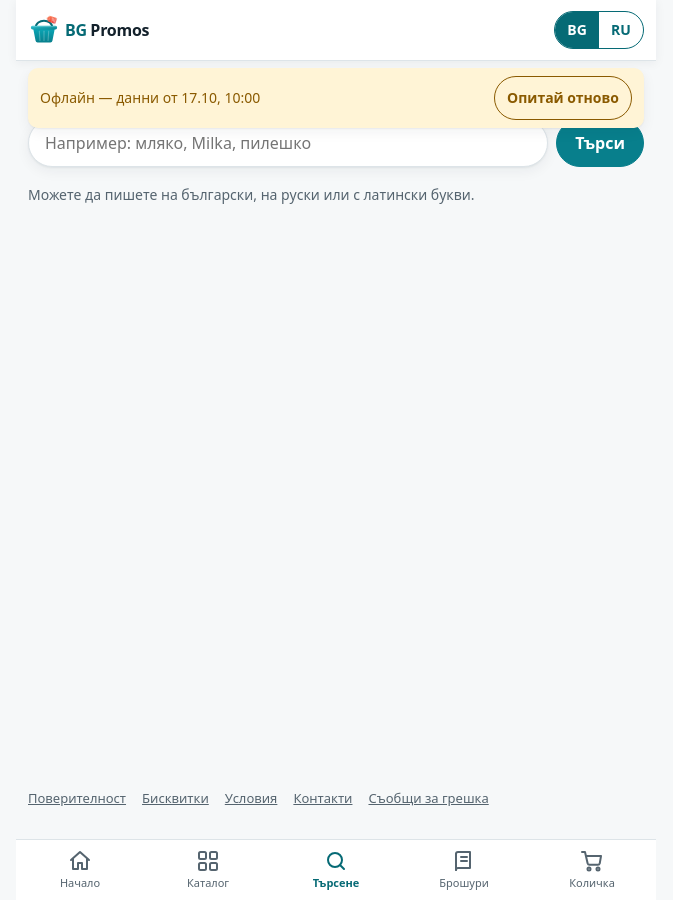
Scenario: search › a committed search never appears in the URL; the results stay
Type "zzzqqq" into the search field at (288, 143), box left=28, top=119, right=548, bottom=167
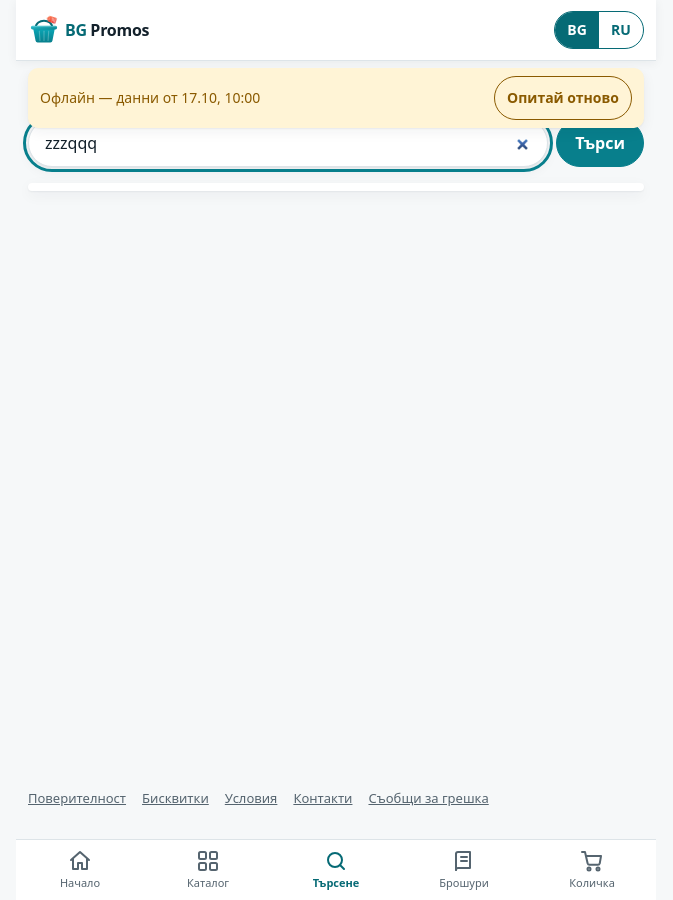
Click the button "Търси" at (600, 143), box left=556, top=119, right=644, bottom=167
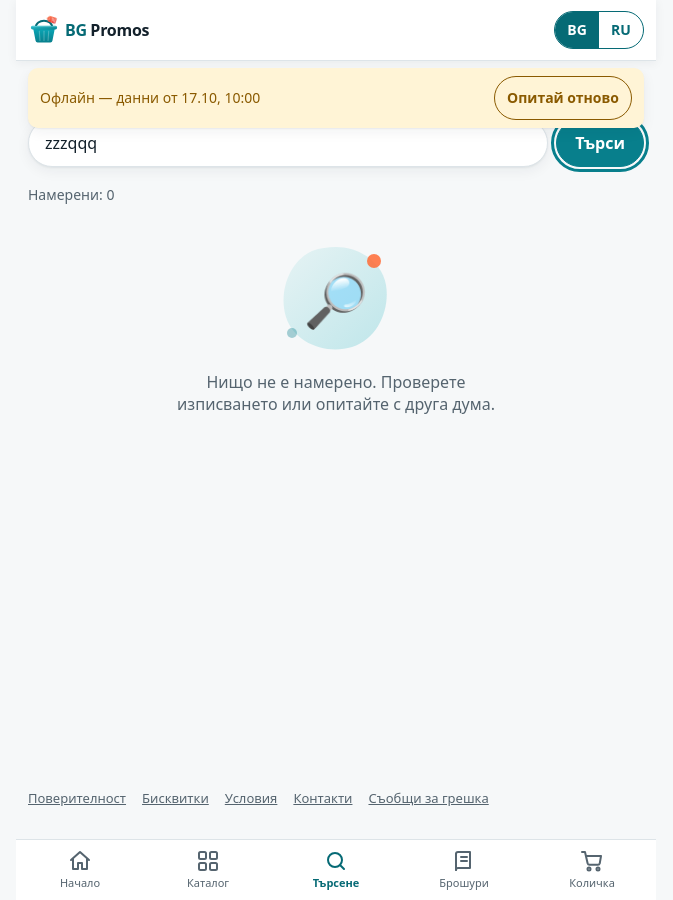
Expected: the text "Намерени: 0" is shown, left=28, top=185, right=114, bottom=204
